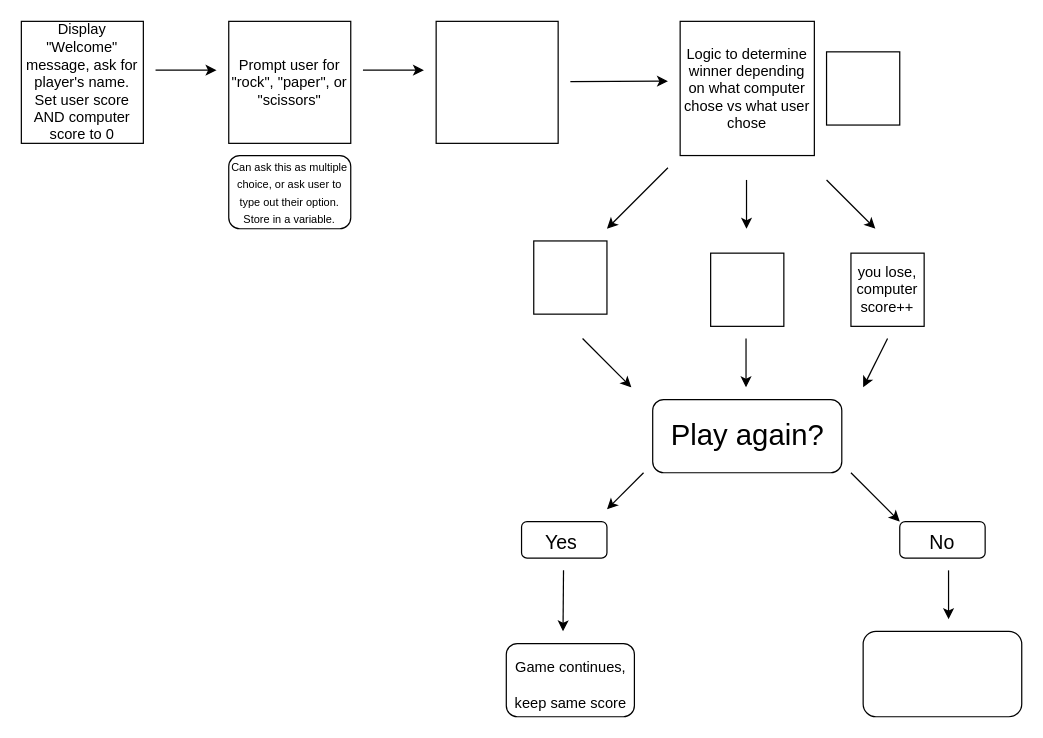
This 1043x738 diagram has some shape labels left out. Each missing label, with the centre of its shape:
draw, no change to score: (x=746, y=289)
Game stops, alert message of final score: (x=942, y=673)
Randomly choose a computer move, store this as a variable: (x=496, y=81)
Send a message announcing winner: (x=862, y=88)
You win. score++: (x=570, y=277)
